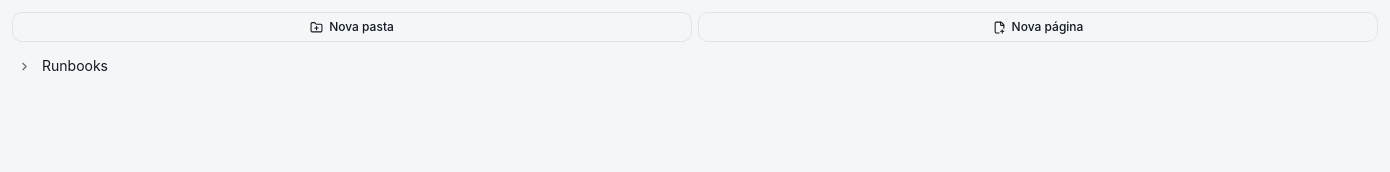
TreePanel › expande pasta e mostra o filho
Expected: the button "Runbooks" is shown, [38, 54, 1374, 78]
Expected: the text "Reset de senha" is not shown
Click the button named "Expandir pasta" at (26, 66), box [18, 60, 34, 72]
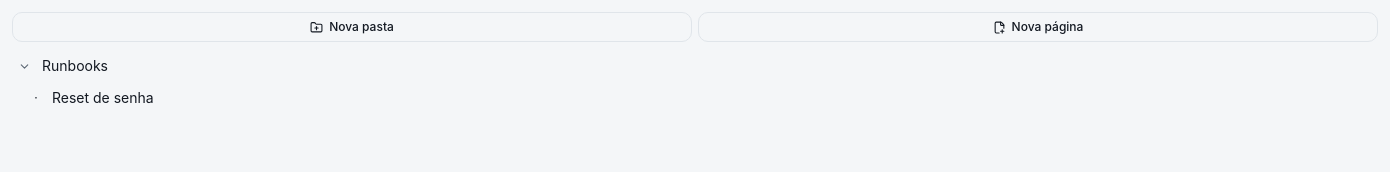
Expected: the link "Reset de senha" is shown, [52, 89, 154, 106]
